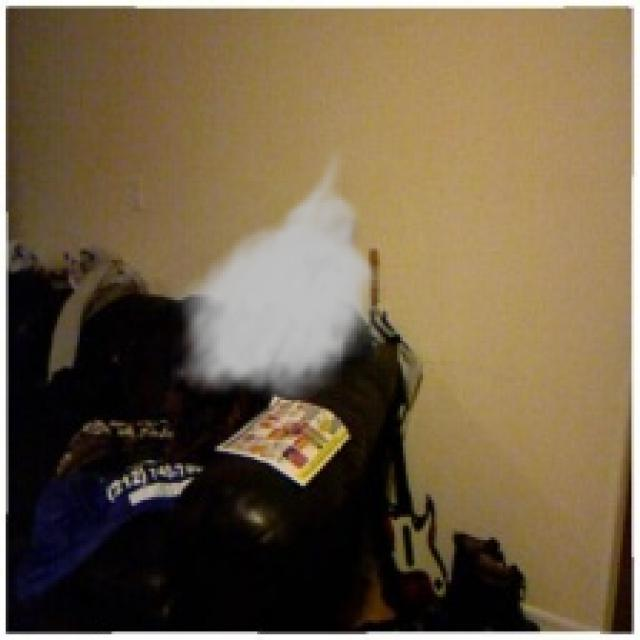smoke: (168, 143, 386, 406)
